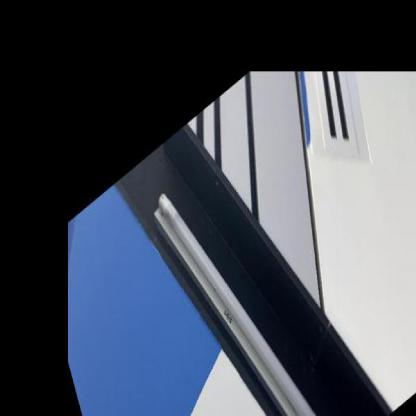light_off: (140, 110, 344, 414)
